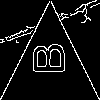B: (25, 42, 64, 75)
